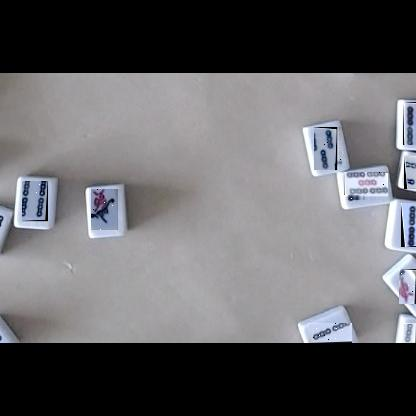1s: (92, 190, 122, 234), (399, 269, 416, 304)
2s: (308, 323, 352, 343), (401, 203, 416, 247)
3s: (315, 127, 342, 170)
4s: (22, 182, 48, 226), (404, 155, 416, 189)
5s: (344, 173, 388, 200)
6s: (403, 102, 416, 145), (403, 323, 416, 343)
